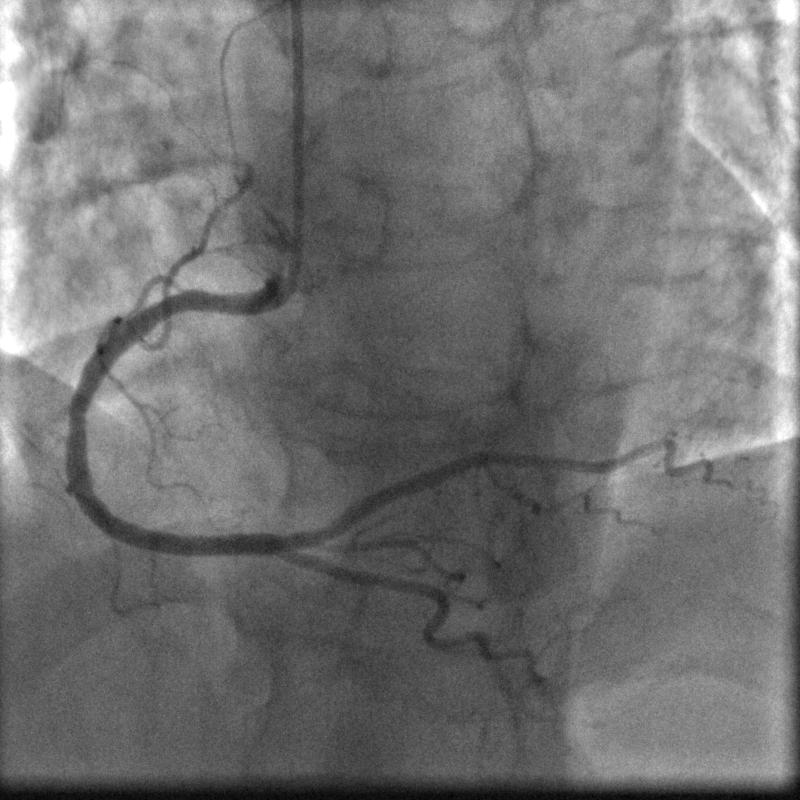Stenosis: (61, 387, 91, 440)
